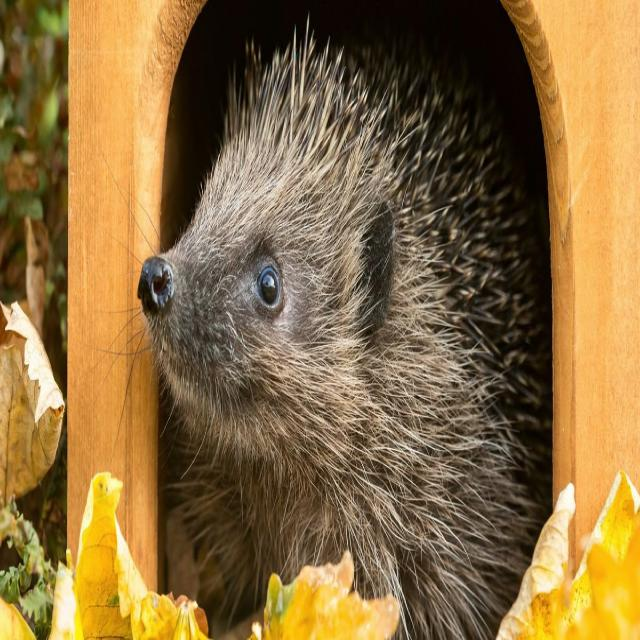hedgehog: (138, 32, 551, 639)
